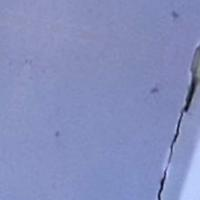crack: (144, 54, 199, 199)
